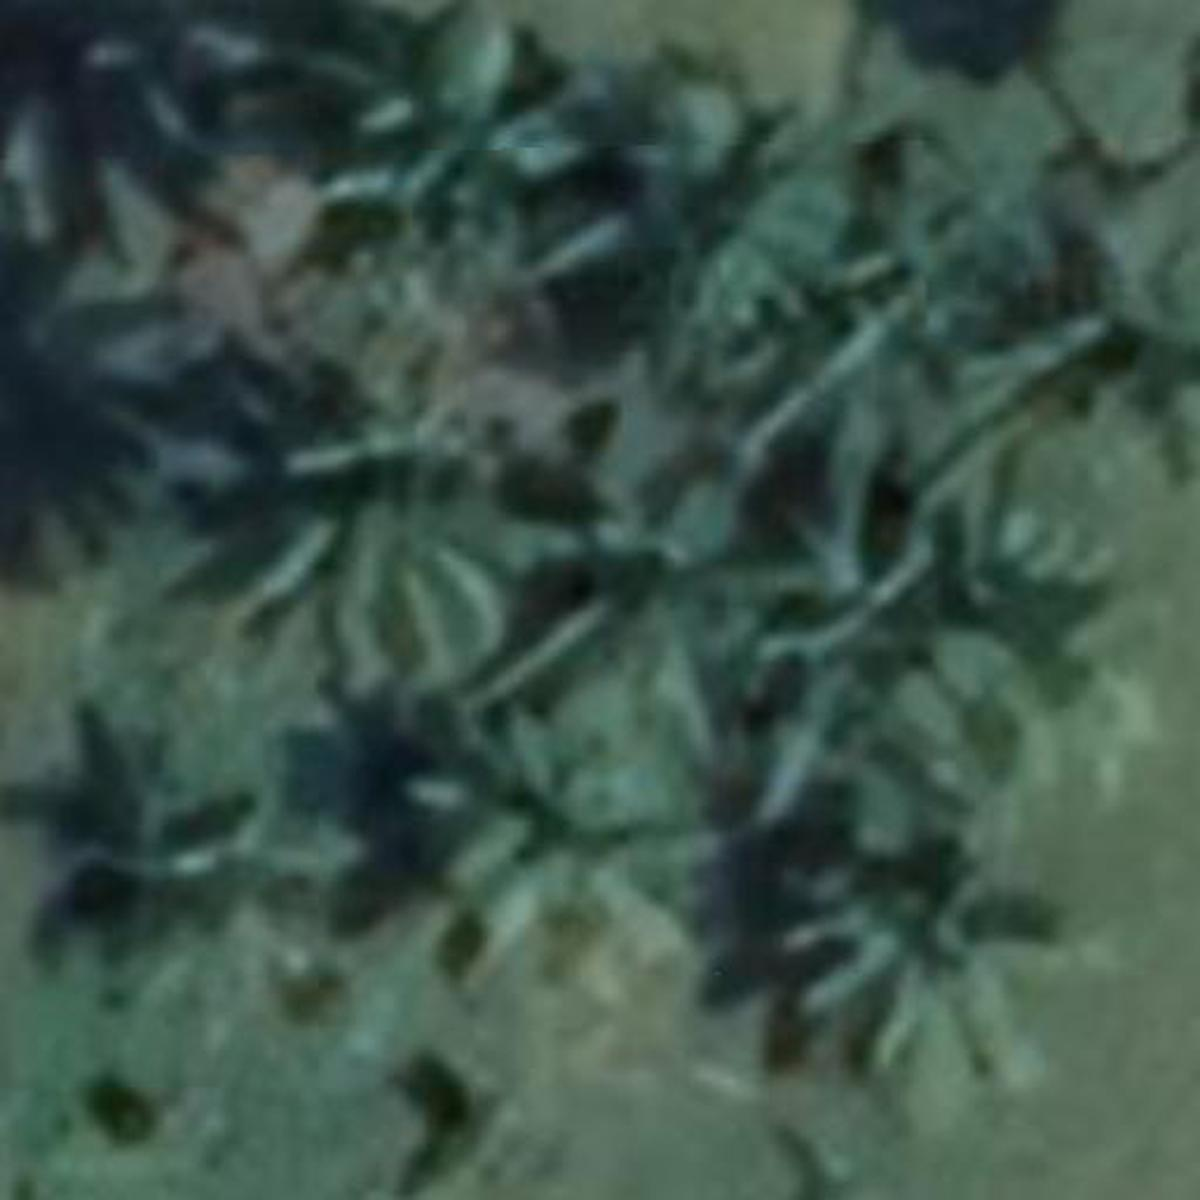coconut: (327, 11, 621, 314), (260, 367, 532, 638), (782, 787, 1040, 1071), (496, 440, 764, 712), (427, 705, 667, 973), (890, 485, 1141, 735), (714, 431, 942, 698), (630, 100, 871, 349), (44, 745, 267, 977), (1007, 164, 1200, 416)
